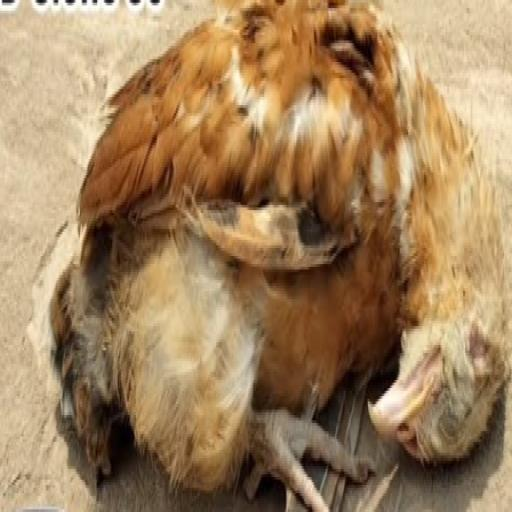disease: (438, 372, 468, 452)
